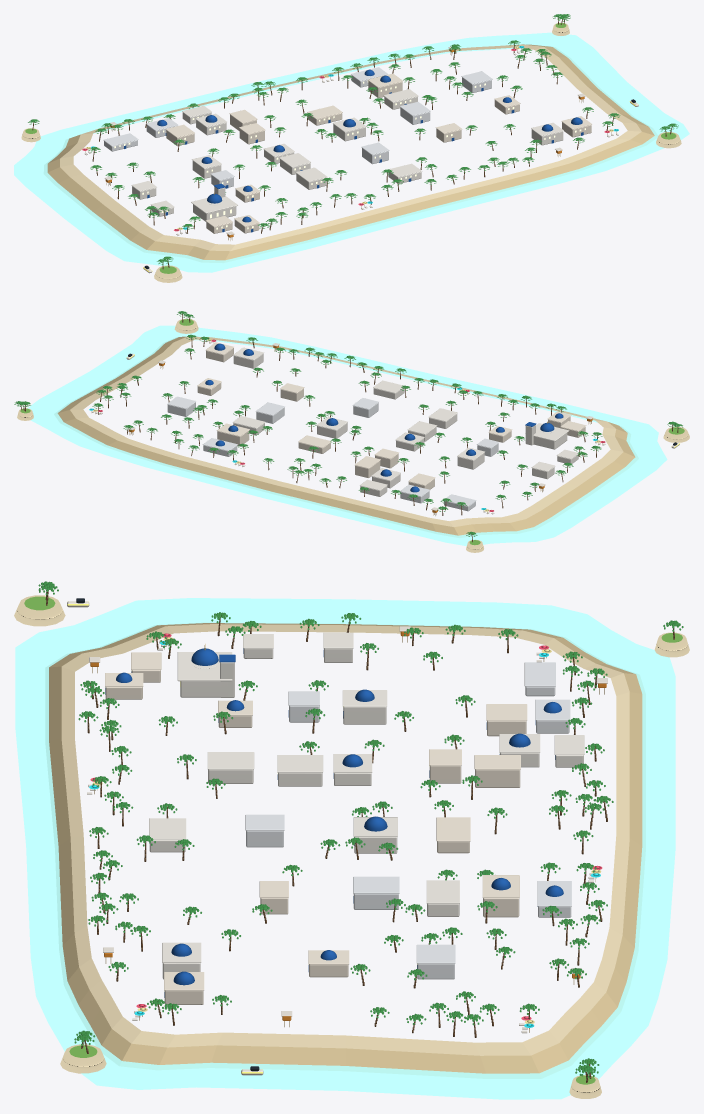
File: by_solskin.glb
3 renders of one model, top to bottom at view 1: azimuth 30°, elevation 25°; view 2: azimuth 150°, elevation 25°; view 3: azimuth 270°, elevation 25°, orthographic. The views are drawn at different scales.
Visible parts, largest first — view 1: Lavt vand_net, Stranden_net, Byen_net, Palmer_net, Holme_net, Kapellet_net; view 2: Lavt vand_net, Stranden_net, Byen_net, Palmer_net, Holme_net, Kapellet_net; view 3: Lavt vand_net, Stranden_net, Byen_net, Palmer_net, Holme_net, Kapellet_net, Holmtraer_net.
Part boxes in pixels (x1,y1,x2,y2): Lavt vand_net: [14, 32, 689, 272]; Stranden_net: [46, 44, 654, 262]; Byen_net: [103, 67, 592, 233]; Palmer_net: [88, 40, 620, 233]; Holme_net: [21, 22, 681, 282]; Kapellet_net: [191, 183, 238, 221]; Lavt vand_net: [27, 325, 667, 546]; Stranden_net: [57, 336, 635, 535]; Byen_net: [167, 342, 586, 511]; Palmer_net: [92, 334, 602, 515]; Holme_net: [17, 318, 689, 552]; Kapellet_net: [525, 421, 569, 449]; Lavt vand_net: [15, 598, 675, 1099]; Stranden_net: [47, 623, 645, 1078]; Byen_net: [105, 632, 584, 1004]; Palmer_net: [78, 612, 613, 1037]; Holme_net: [14, 595, 689, 1098]; Kapellet_net: [177, 644, 235, 697]; Holmtraer_net: [38, 581, 683, 1082].
Size of the model in its own units: 95.77 by 4.9 by 54.33.
